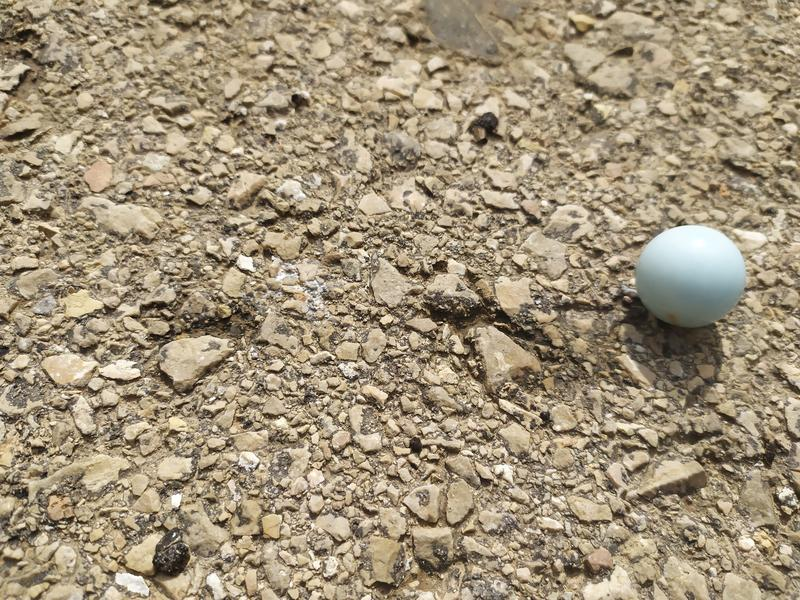Warning: (633, 223, 750, 332)
